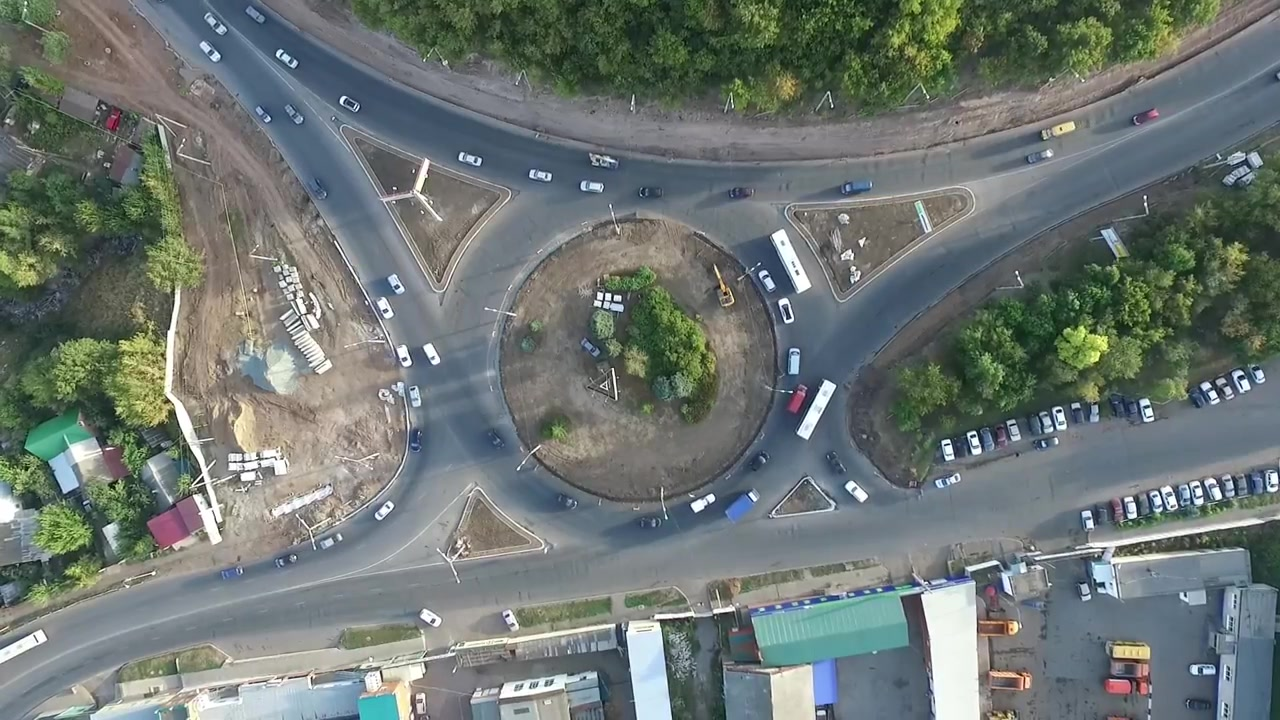car: (767, 227, 813, 295), (793, 376, 837, 442), (1, 627, 49, 666), (723, 485, 762, 523), (1103, 639, 1151, 660), (987, 670, 1034, 691), (1103, 677, 1150, 696), (977, 618, 1020, 637), (1039, 120, 1077, 141), (785, 382, 808, 415), (1108, 660, 1151, 677), (201, 11, 229, 37), (843, 479, 869, 504), (689, 491, 717, 514), (839, 179, 873, 197), (588, 151, 620, 170), (1199, 380, 1222, 406), (825, 450, 848, 476), (1131, 106, 1160, 126), (199, 39, 222, 64), (274, 48, 300, 70), (777, 296, 796, 325), (1231, 369, 1252, 395), (373, 499, 396, 522), (421, 342, 442, 367), (417, 608, 443, 628), (1159, 484, 1178, 511), (748, 450, 771, 472), (385, 272, 406, 296), (934, 471, 962, 489), (1203, 477, 1223, 502), (1215, 376, 1235, 401), (757, 269, 777, 294), (1024, 147, 1055, 163), (395, 343, 414, 369), (1187, 480, 1205, 507), (579, 336, 601, 358), (1187, 386, 1208, 409), (375, 296, 395, 320), (319, 532, 344, 551), (501, 608, 520, 633), (1138, 397, 1156, 423), (1031, 435, 1060, 451), (284, 103, 305, 125), (243, 5, 266, 25), (527, 167, 554, 184), (486, 427, 505, 451), (104, 107, 122, 132), (457, 150, 483, 167), (965, 430, 982, 456), (1051, 406, 1068, 432), (1247, 363, 1267, 385), (338, 95, 361, 114), (555, 492, 578, 511), (786, 347, 801, 376), (578, 179, 605, 195), (978, 427, 995, 452), (1108, 497, 1124, 523), (992, 423, 1008, 449), (1248, 470, 1264, 496), (1004, 419, 1022, 442), (1037, 410, 1054, 434), (728, 186, 756, 200), (1188, 663, 1216, 677), (220, 565, 246, 580), (1264, 468, 1279, 494), (274, 553, 298, 569), (1147, 489, 1163, 513), (953, 435, 969, 459), (409, 428, 423, 455), (637, 185, 664, 199), (1122, 494, 1137, 519), (1176, 483, 1191, 508), (1220, 474, 1235, 499), (1079, 509, 1095, 532), (1109, 395, 1125, 418), (1135, 492, 1150, 516), (940, 438, 955, 462), (1076, 580, 1092, 602), (1026, 412, 1041, 435), (1069, 401, 1084, 424), (254, 105, 272, 124), (1185, 697, 1211, 710), (639, 516, 663, 530), (1235, 473, 1248, 498), (1094, 503, 1108, 526), (408, 384, 421, 408), (414, 691, 427, 715), (1087, 402, 1101, 423), (1123, 397, 1137, 418)
